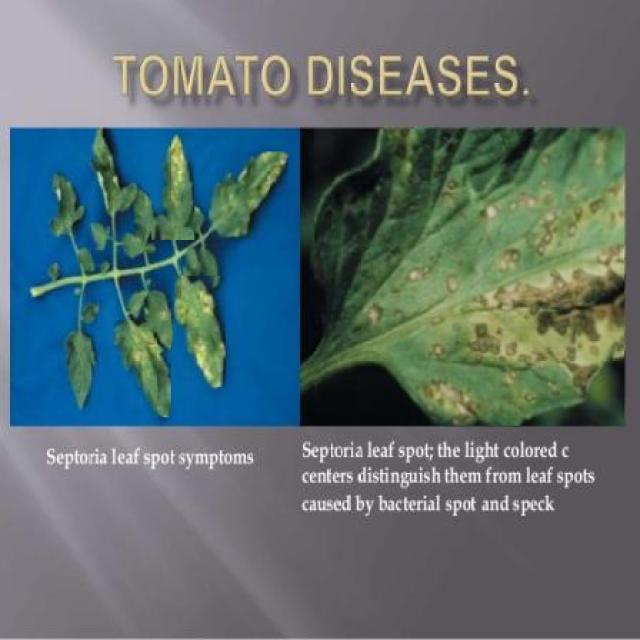Septoria: (314, 128, 624, 426), (209, 152, 288, 240), (174, 276, 226, 388), (114, 320, 170, 418), (152, 132, 194, 241)
